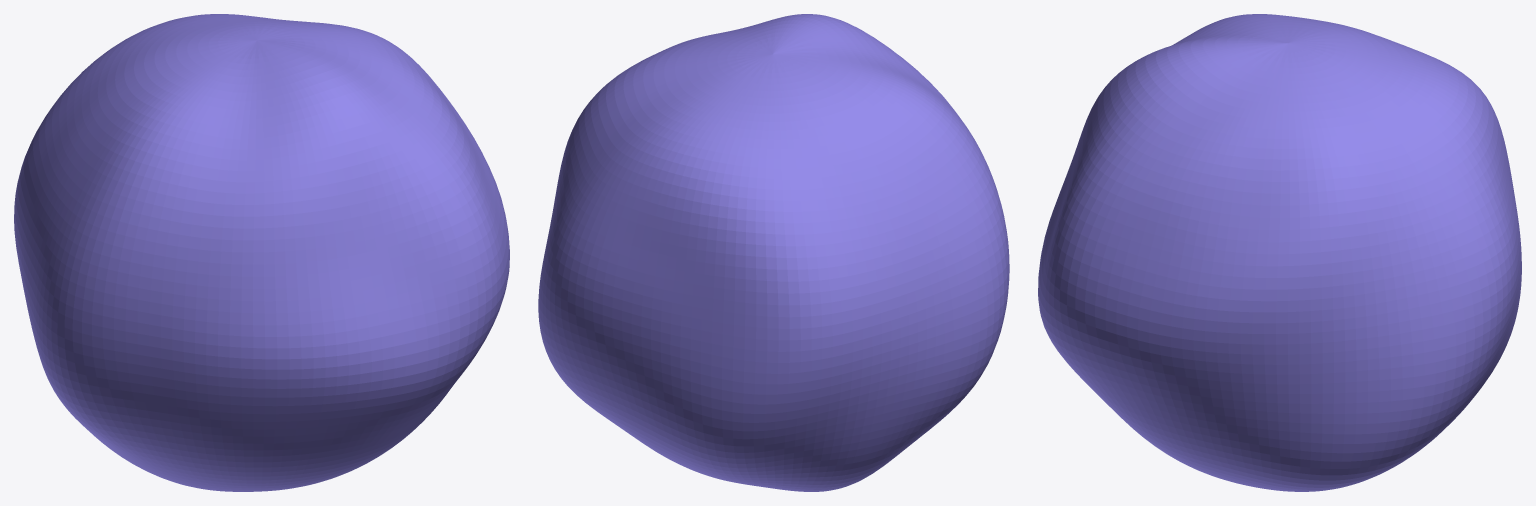
File: macroInner.fbx
The picture shows the model from 3 angles, left to right: view 1: azimuth 30°, elevation 25°; view 2: azimuth 150°, elevation 25°; view 3: azimuth 270°, elevation 25°; orthographic projection. The views are drawn at different scales.
Parts seen in each view (by area): view 1: InnerShell; view 2: InnerShell; view 3: InnerShell.
Boxes of the visible parts, x1,y1,x2,y2 form: InnerShell: [14, 14, 509, 491]; InnerShell: [538, 14, 1009, 491]; InnerShell: [1038, 14, 1521, 491].
Size of the model in its own units: 147 by 142 by 145.
